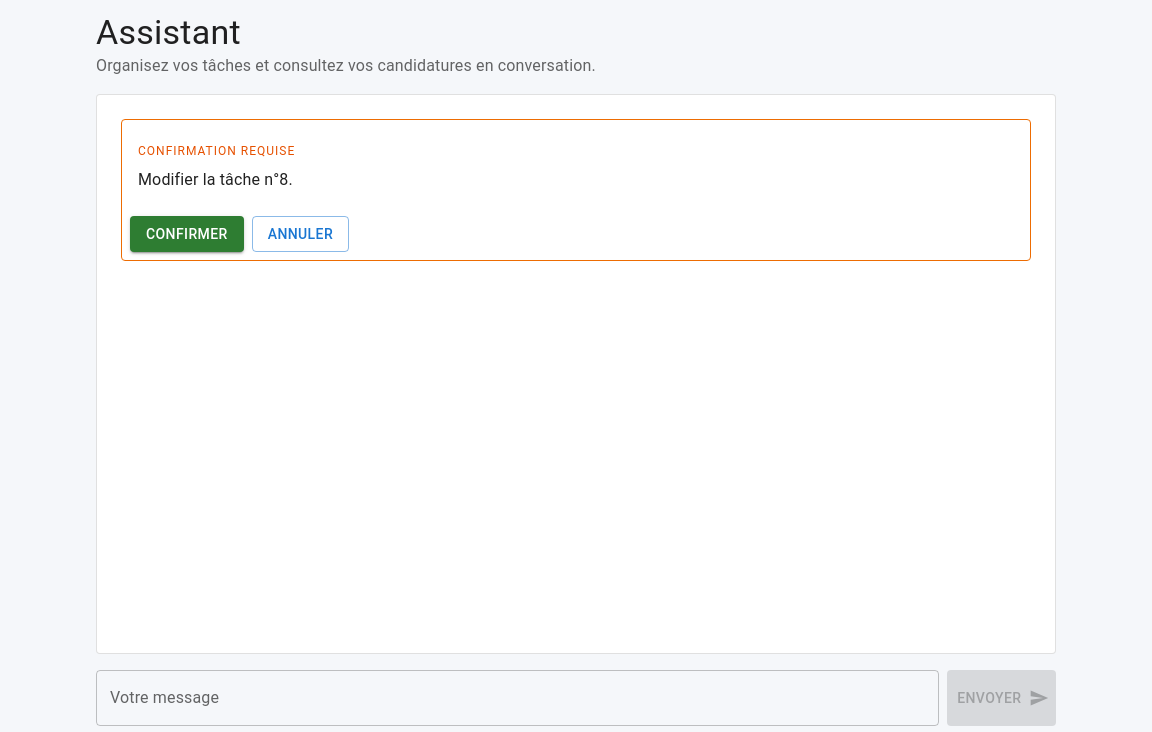
Test case: cancels a reloaded pending action by id only
What coordinates should you click on to do the following:
click the button "Annuler"
I would click on:
 (300, 234)
Its box is [252,216,349,252].
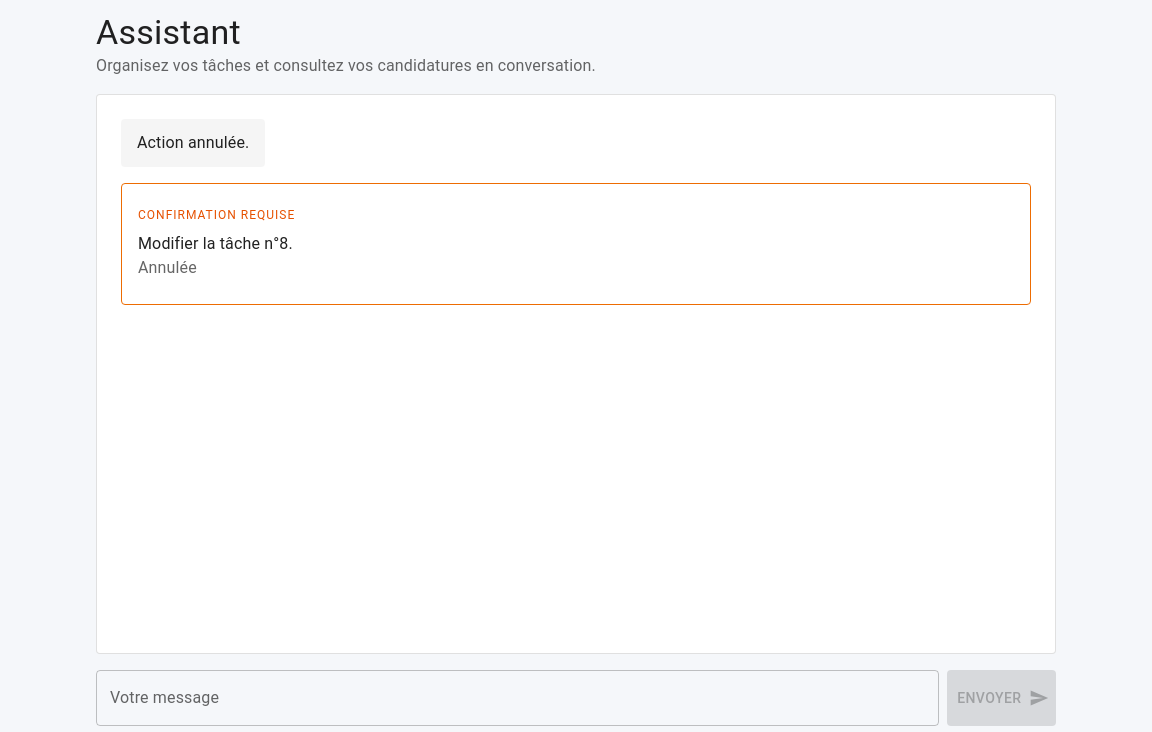
Check: the text "Action annulée." is shown, box [137,131,249,155]
